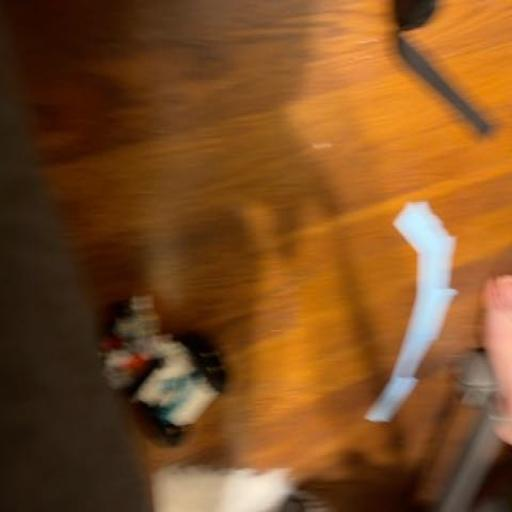Opponent: (95, 310, 235, 454)
